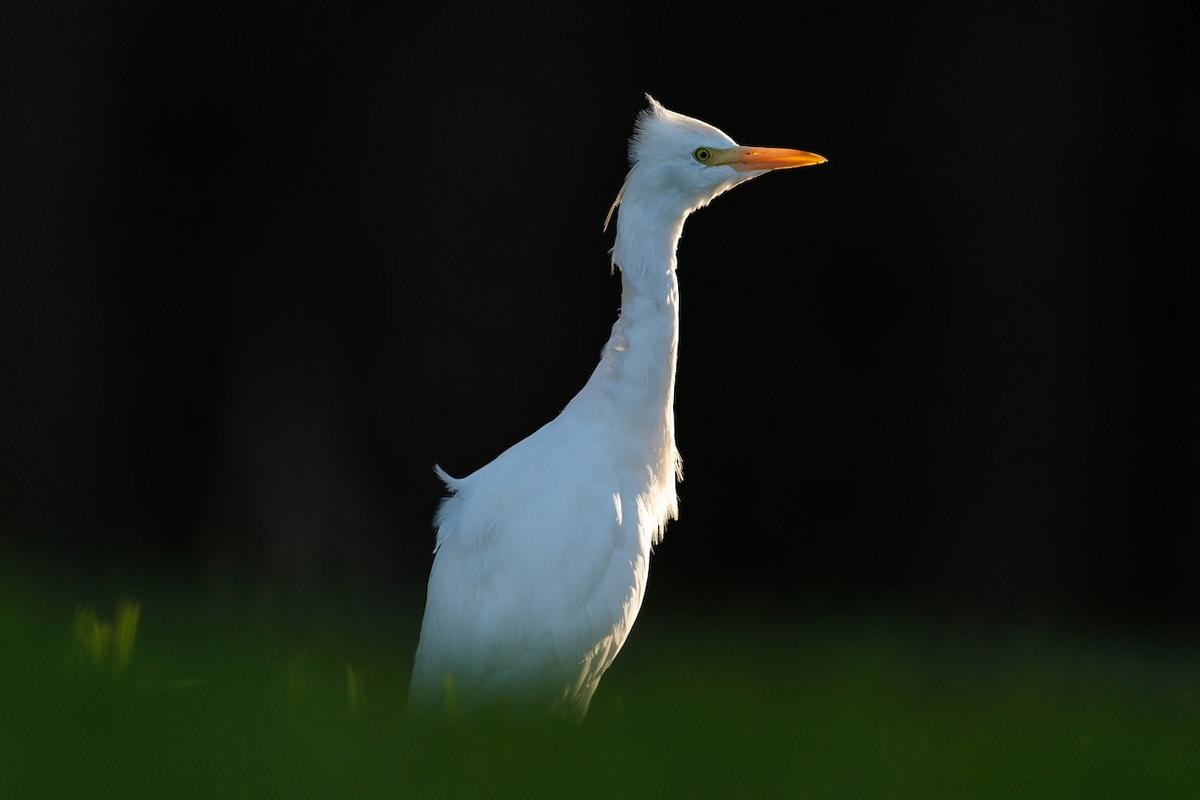egret: (313, 73, 826, 725)
